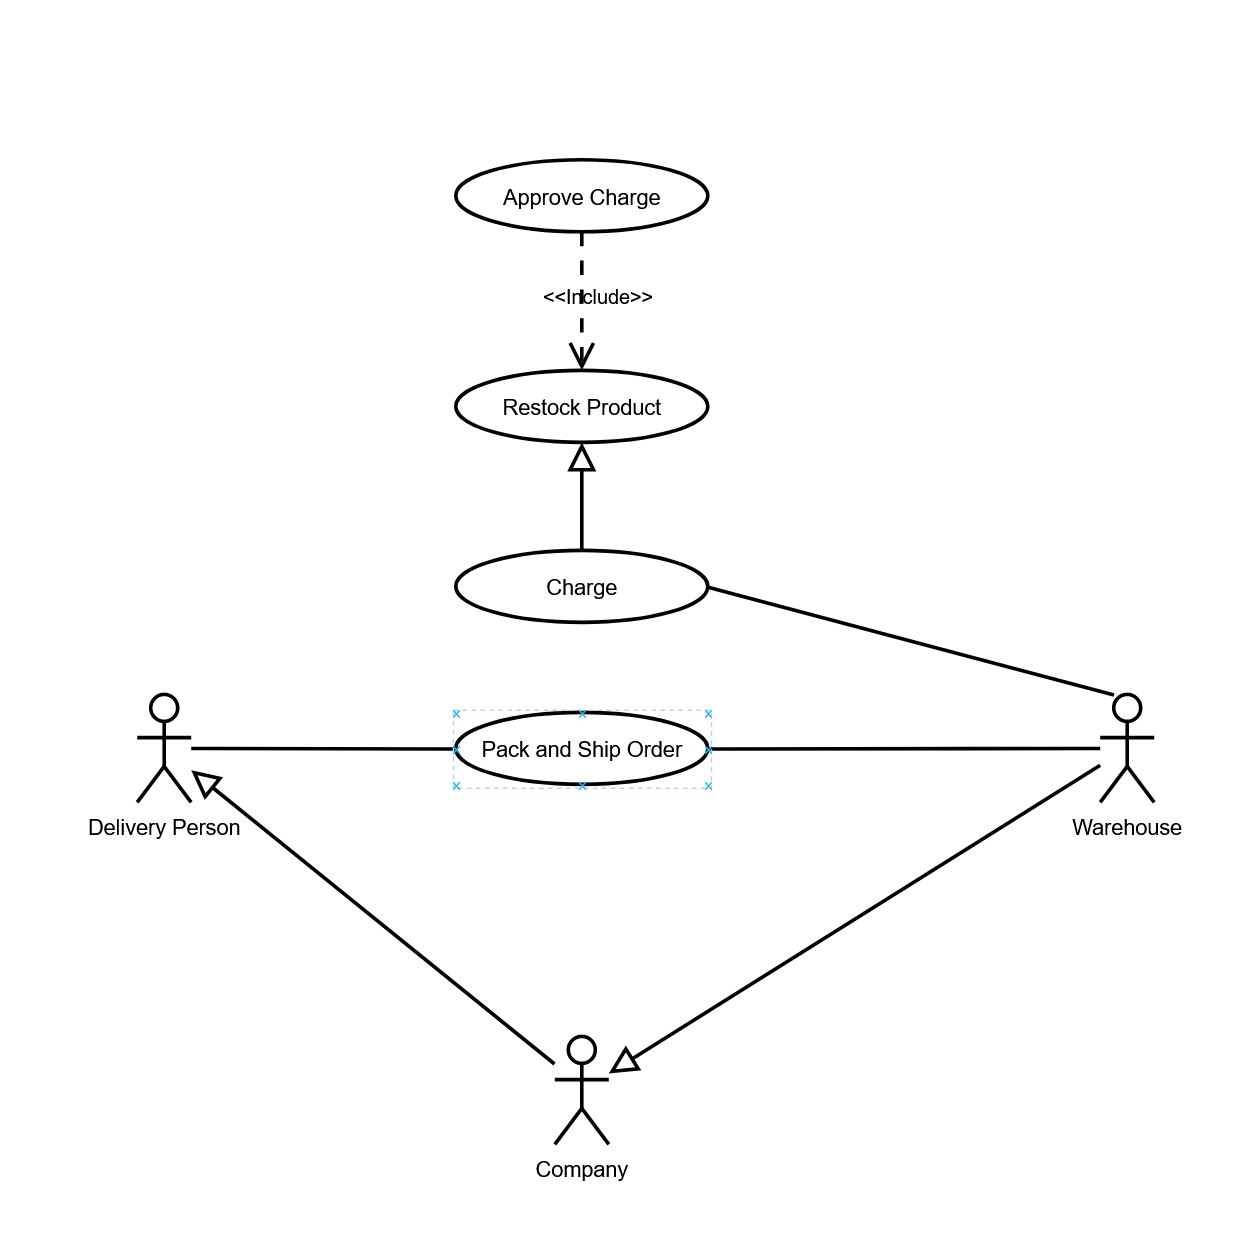actor: (126, 687, 194, 805), (1097, 690, 1163, 808), (551, 1031, 608, 1152)
association: (708, 581, 1113, 695), (193, 721, 451, 769), (713, 731, 1101, 761), (568, 233, 598, 371)
generalization: (608, 761, 1105, 1076), (191, 765, 560, 1068), (568, 443, 598, 550)
text: (478, 732, 683, 761), (495, 395, 675, 424), (498, 186, 671, 211), (530, 568, 633, 609), (81, 815, 250, 840), (1068, 811, 1187, 845), (533, 1156, 635, 1186), (540, 281, 656, 306)
use_case: (453, 546, 712, 626), (451, 368, 712, 446), (455, 709, 710, 789), (453, 156, 711, 233)
